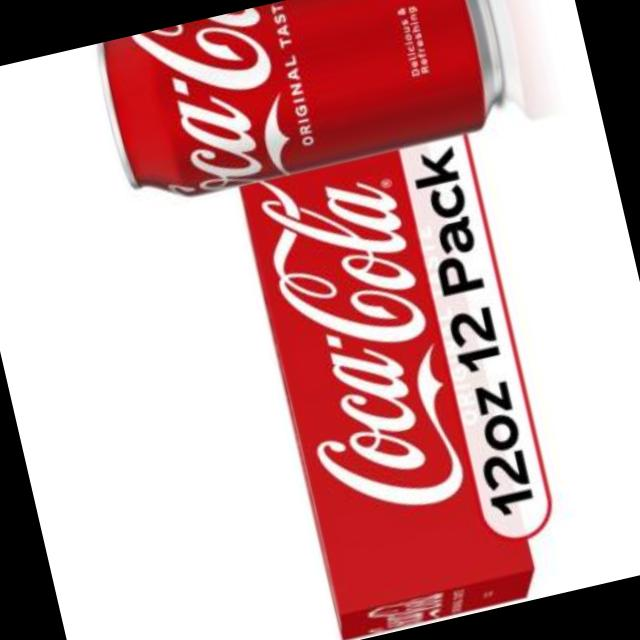metal: (96, 0, 497, 197)
